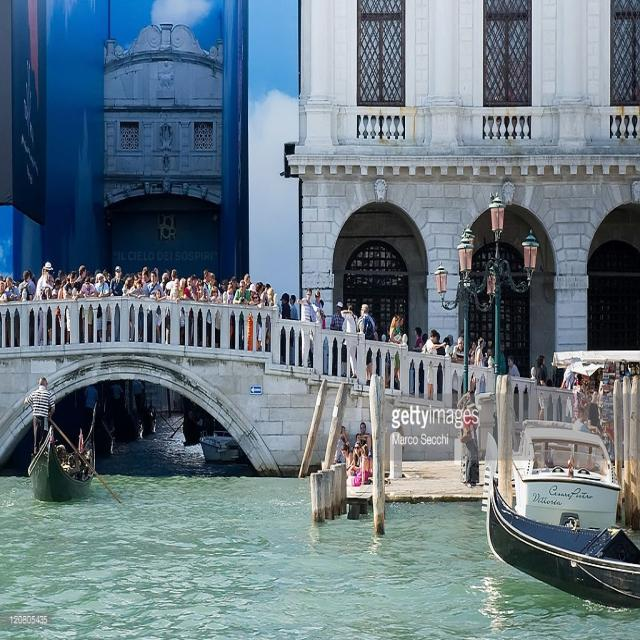body: (0, 263, 279, 351), (23, 375, 56, 456), (456, 388, 476, 484), (338, 443, 372, 499), (294, 286, 315, 370), (357, 303, 376, 387), (384, 312, 404, 390), (339, 302, 359, 378), (420, 328, 439, 402), (463, 402, 479, 488), (232, 280, 250, 350), (429, 328, 447, 397), (94, 274, 110, 343), (148, 288, 167, 346), (409, 326, 424, 398), (108, 376, 128, 421), (82, 383, 99, 433), (249, 292, 263, 352), (587, 388, 602, 438), (355, 421, 373, 459), (536, 354, 546, 422), (497, 339, 507, 402), (132, 376, 146, 421), (340, 442, 356, 481), (146, 270, 165, 302), (109, 264, 126, 297), (572, 405, 592, 433), (329, 301, 345, 332), (78, 274, 98, 298), (340, 441, 354, 469), (473, 337, 486, 367), (450, 336, 464, 358), (507, 355, 521, 377), (374, 319, 388, 340), (395, 313, 404, 345), (289, 293, 299, 320), (208, 285, 223, 303), (311, 289, 322, 309), (319, 298, 326, 328), (442, 333, 456, 346), (339, 425, 349, 443), (485, 337, 494, 355), (357, 307, 362, 334), (280, 292, 290, 305), (469, 337, 476, 353), (541, 355, 546, 368), (422, 332, 428, 341), (476, 338, 480, 350)
